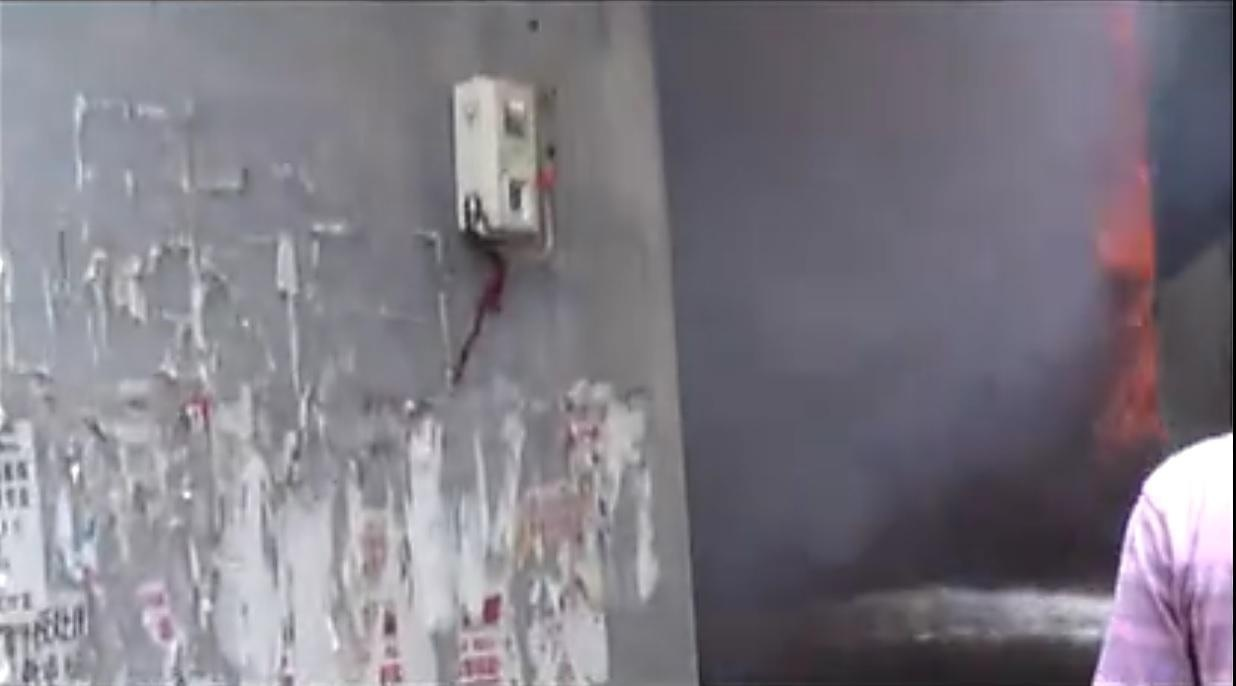fire: (1097, 139, 1165, 448)
